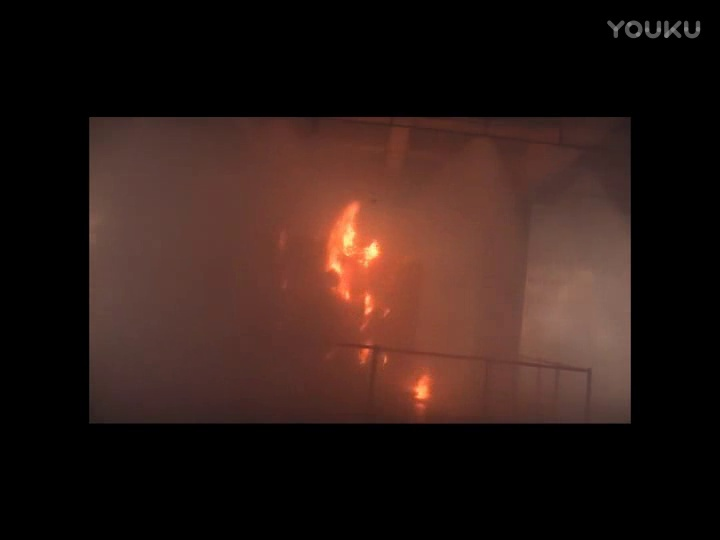fire: (329, 198, 379, 305), (407, 374, 434, 410)
